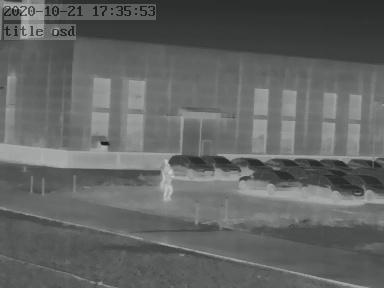person: (160, 164, 174, 201)
vehicle: (301, 174, 363, 203), (238, 170, 299, 196), (165, 152, 214, 179), (349, 173, 382, 200), (206, 153, 242, 177), (233, 154, 270, 172), (262, 155, 296, 169), (347, 156, 380, 170), (318, 156, 347, 170), (295, 156, 324, 169)
